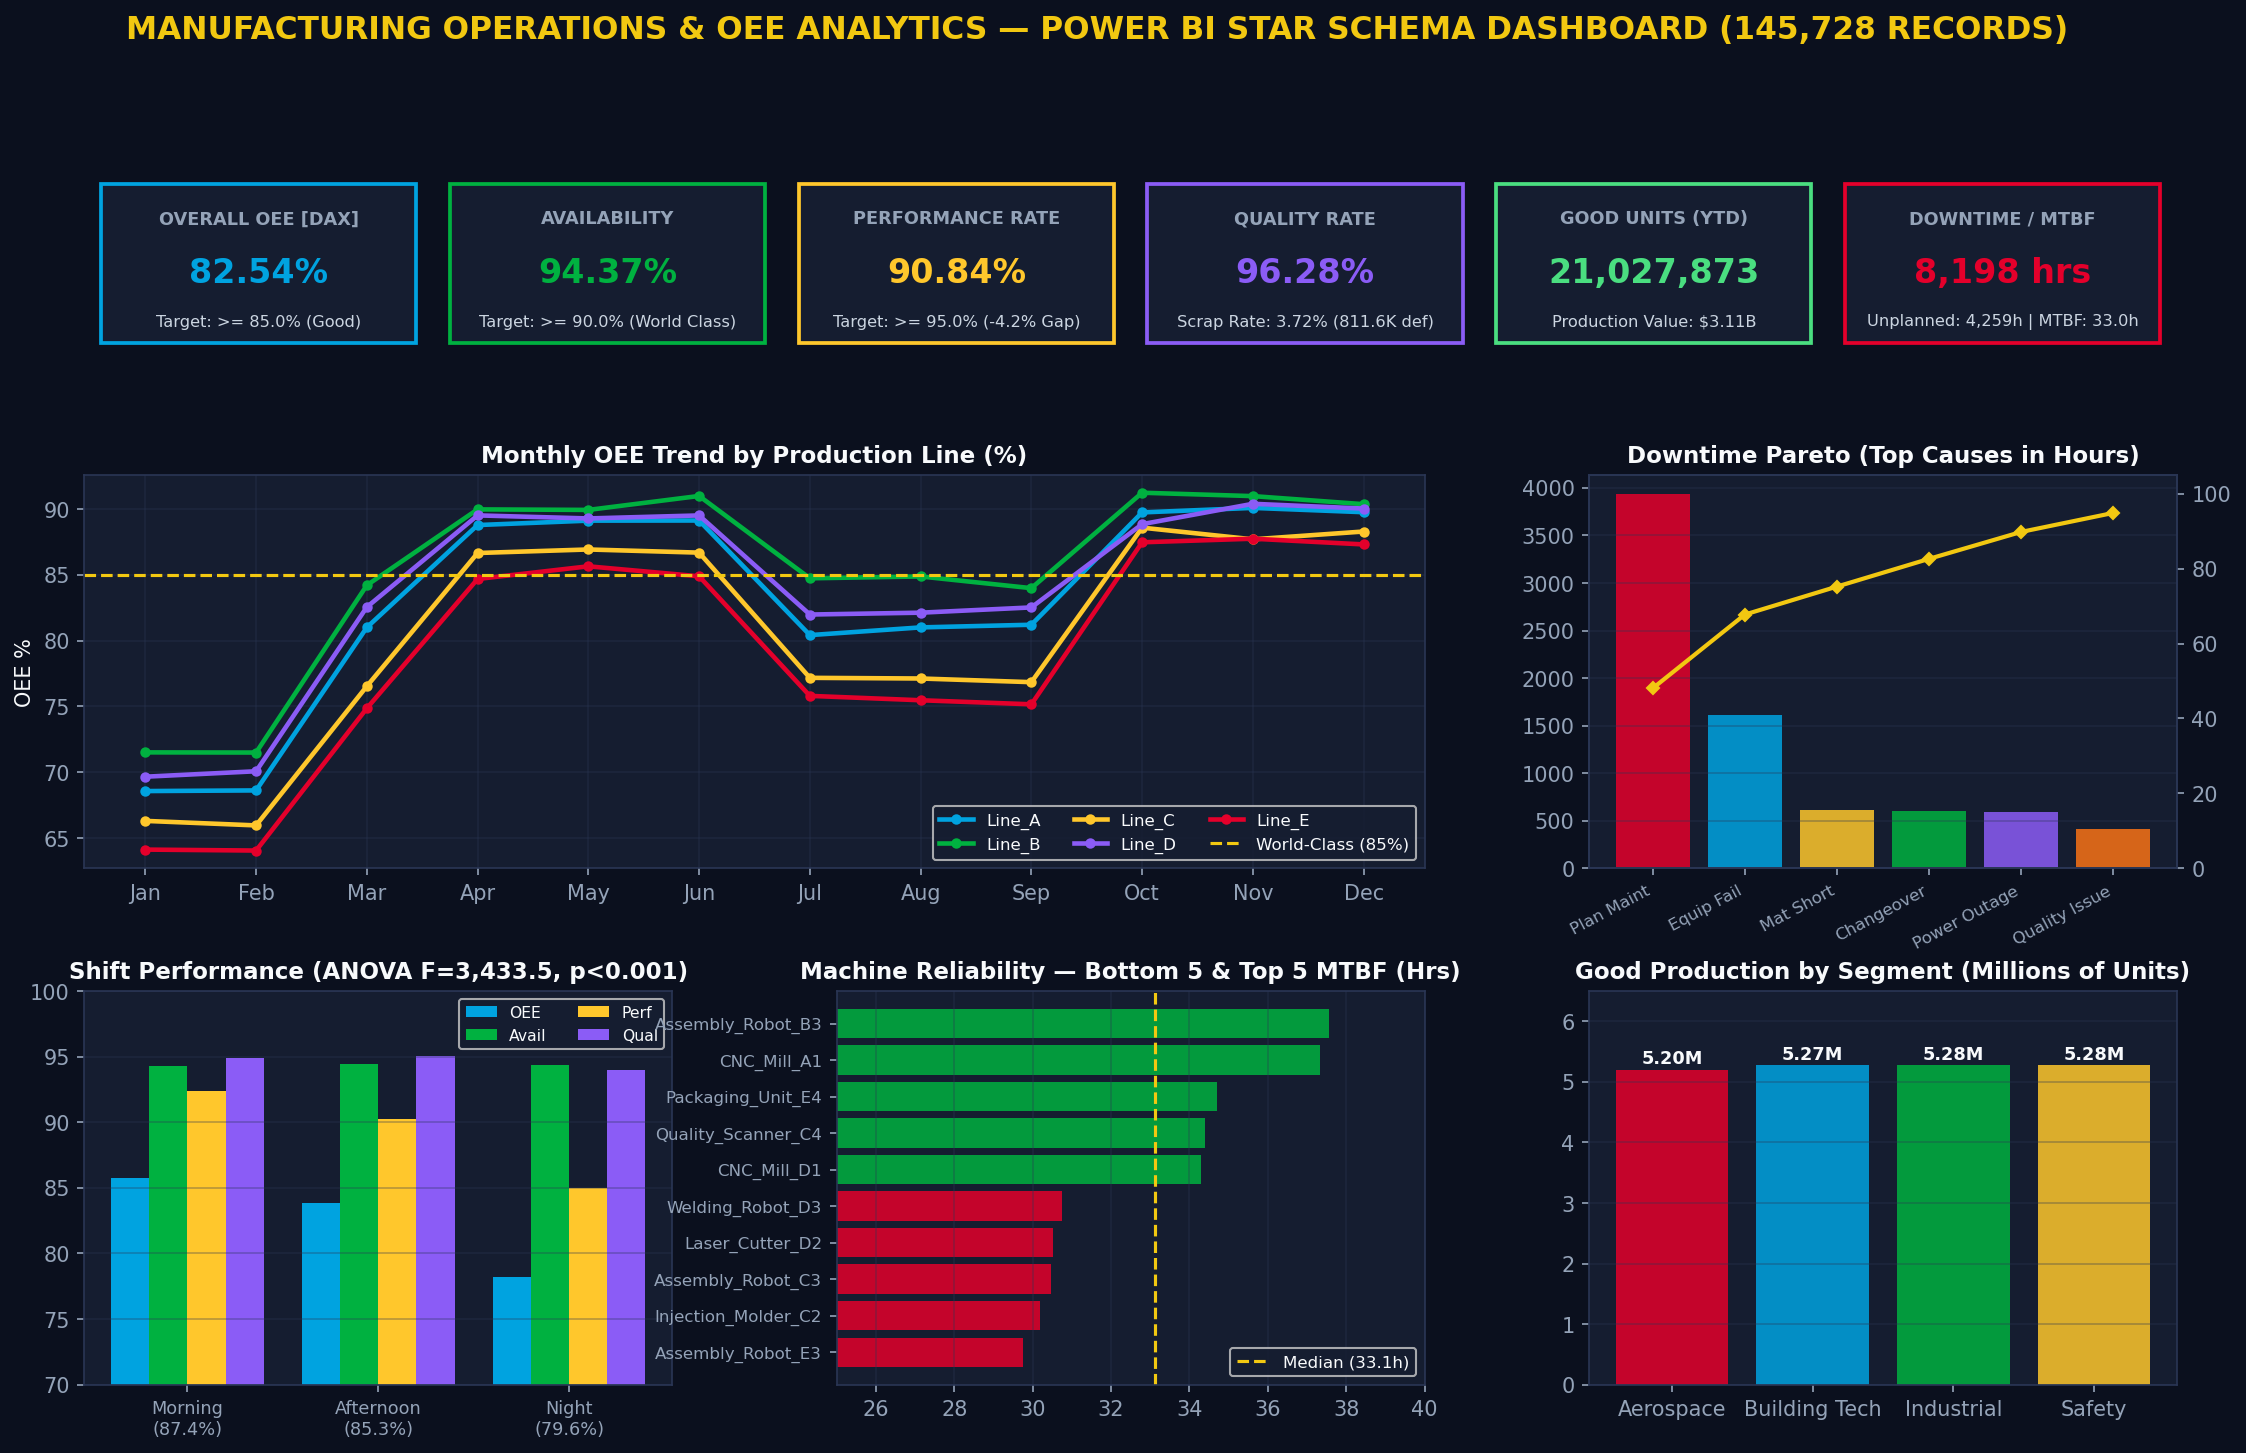

The page's visual inventory and layout, read from the dashboard file:
{"tool":"powerbi","page":{"name":"1. Live Interactive OEE Studio","canvas":[1920,1080],"ordinal":0},"visuals":[{"type":"card","fields":{"Values":["_Measures.OEE"]},"box":[20,20,295,135],"z":100},{"type":"card","fields":{"Values":["_Measures.Availability"]},"box":[330,20,295,135],"z":200},{"type":"card","fields":{"Values":["_Measures.Performance Rate"]},"box":[640,20,295,135],"z":300},{"type":"card","fields":{"Values":["_Measures.Quality Rate"]},"box":[950,20,295,135],"z":400},{"type":"card","fields":{"Values":["_Measures.Good Units"]},"box":[1260,20,310,135],"z":500},{"type":"card","fields":{"Values":["_Measures.Production Value"]},"box":[1585,20,315,135],"z":600},{"type":"slicer","fields":{"Values":["dim_machine.production_line"]},"box":[20,170,295,280],"z":700},{"type":"slicer","fields":{"Values":["dim_shift.shift_name"]},"box":[20,465,295,250],"z":800},{"type":"slicer","fields":{"Values":["dim_product.product_category"]},"box":[20,730,295,325],"z":900},{"type":"clusteredColumnChart","fields":{"Category":["dim_date.month_short"],"Y":["_Measures.OEE","_Measures.Availability","_Measures.Performance Rate","_Measures.Quality Rate"]},"box":[330,170,780,430],"z":1000},{"type":"clusteredBarChart","fields":{"Category":["fact_production.downtime_reason"],"Y":["_Measures.Downtime Hours","_Measures.Unplanned Downtime"]},"box":[330,615,780,440],"z":1100},{"type":"clusteredBarChart","fields":{"Category":["dim_machine.machine_id"],"Y":["_Measures.OEE"]},"box":[1125,170,775,430],"z":1200},{"type":"tableEx","fields":{"Values":["dim_machine.machine_id","dim_machine.production_line","dim_machine.machine_type","_Measures.OEE","_Measures.Availability","_Measures.Performance Rate","_Measures.Quality Rate","_Measures.Good Units","_Measures.Scrap Rate","_Measures.Downtime Hours","_Measures.MTBF Hours","_Measures.OEE Status"]},"box":[1125,615,775,440],"z":1300}]}

Visuals, with their boxes on the page's 1920x1080 design canvas (x1, y1, x2, y2). These are canvas units, not pixel positions in the 2246x1453 screenshot, which may show the page scaled, cropped or inside an application window:
card - _Measures.OEE: <region>20, 20, 315, 155</region>
card - _Measures.Availability: <region>330, 20, 625, 155</region>
card - _Measures.Performance Rate: <region>640, 20, 935, 155</region>
card - _Measures.Quality Rate: <region>950, 20, 1245, 155</region>
card - _Measures.Good Units: <region>1260, 20, 1570, 155</region>
card - _Measures.Production Value: <region>1585, 20, 1900, 155</region>
slicer - dim_machine.production_line: <region>20, 170, 315, 450</region>
slicer - dim_shift.shift_name: <region>20, 465, 315, 715</region>
slicer - dim_product.product_category: <region>20, 730, 315, 1055</region>
clusteredColumnChart - dim_date.month_short x _Measures.OEE: <region>330, 170, 1110, 600</region>
clusteredBarChart - fact_production.downtime_reason x _Measures.Downtime Hours: <region>330, 615, 1110, 1055</region>
clusteredBarChart - dim_machine.machine_id x _Measures.OEE: <region>1125, 170, 1900, 600</region>
tableEx - dim_machine.machine_id x dim_machine.production_line: <region>1125, 615, 1900, 1055</region>
